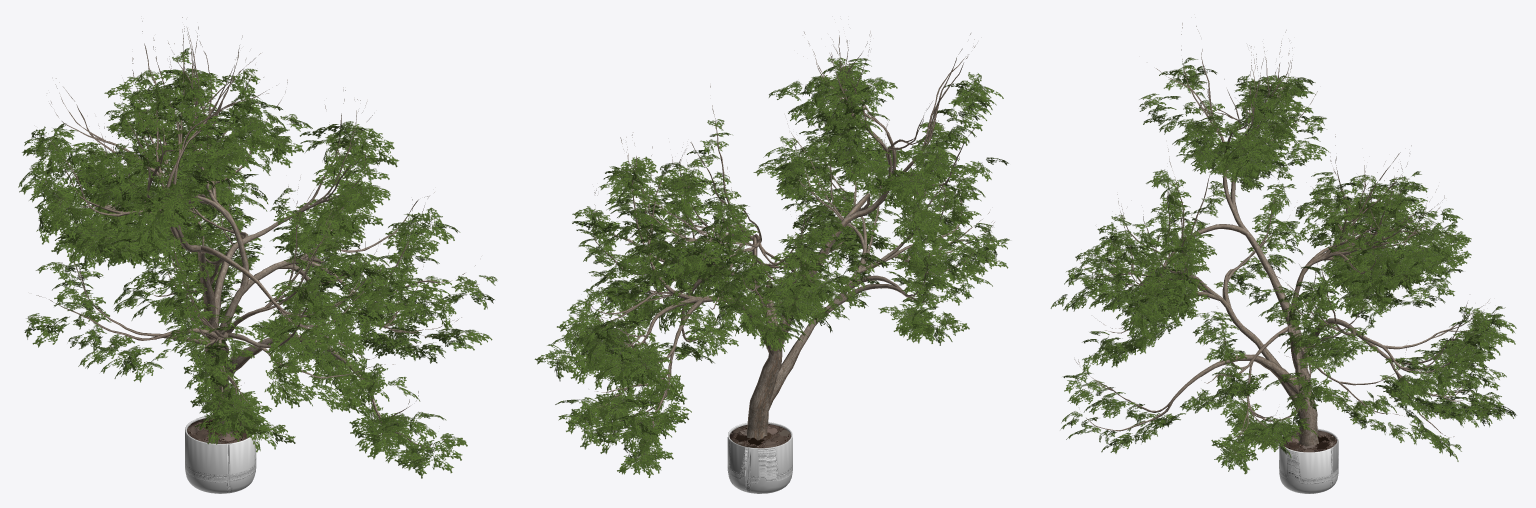
The model's file is OakCompressed.glb.
3 views of the same model, side by side, from view 1: azimuth 30°, elevation 25°; view 2: azimuth 150°, elevation 25°; view 3: azimuth 270°, elevation 25° (orthographic). The views are drawn at different scales.
Parts seen in each view (by area): view 1: Object_13, Object_11, Object_5.002, Object_6; view 2: Object_13, Object_11, Object_5.002, Object_6; view 3: Object_13, Object_11, Object_5.002, Object_6.
Boxes of the visible parts, x1,y1,x2,y2 form: Object_13: (18,47,497,478); Object_11: (36,17,475,447); Object_5.002: (185,415,256,493); Object_6: (187,417,251,443); Object_13: (534,57,1009,477); Object_11: (555,31,994,469); Object_5.002: (727,422,792,493); Object_6: (729,424,790,448); Object_13: (1050,57,1516,474); Object_11: (1074,23,1495,446); Object_5.002: (1279,428,1338,493); Object_6: (1281,430,1336,452).
Bounding box in the file's own units: 114 × 117 × 120.
Materials: 4 (4 with a texture image).
